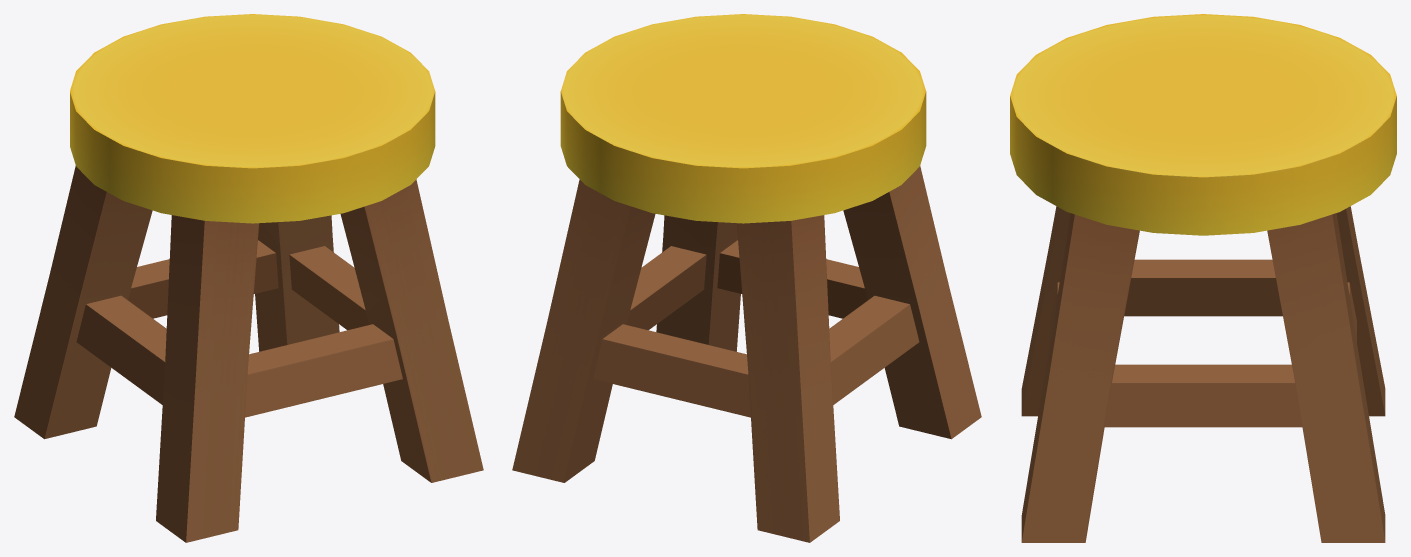
Rendered from chair.FBX.
The picture shows the model from 3 angles, left to right: view 1: azimuth 30°, elevation 25°; view 2: azimuth 150°, elevation 25°; view 3: azimuth 270°, elevation 25°; orthographic projection. The views are drawn at different scales.
Visible parts, largest first — view 1: chair; view 2: chair; view 3: chair.
Part boxes in pixels (left/top/right/bottom): chair: left=14, top=14, right=483, bottom=542; chair: left=512, top=14, right=981, bottom=542; chair: left=1010, top=14, right=1396, bottom=542.
Bounding box in the file's own units: 23.42 × 24.87 × 23.42.
